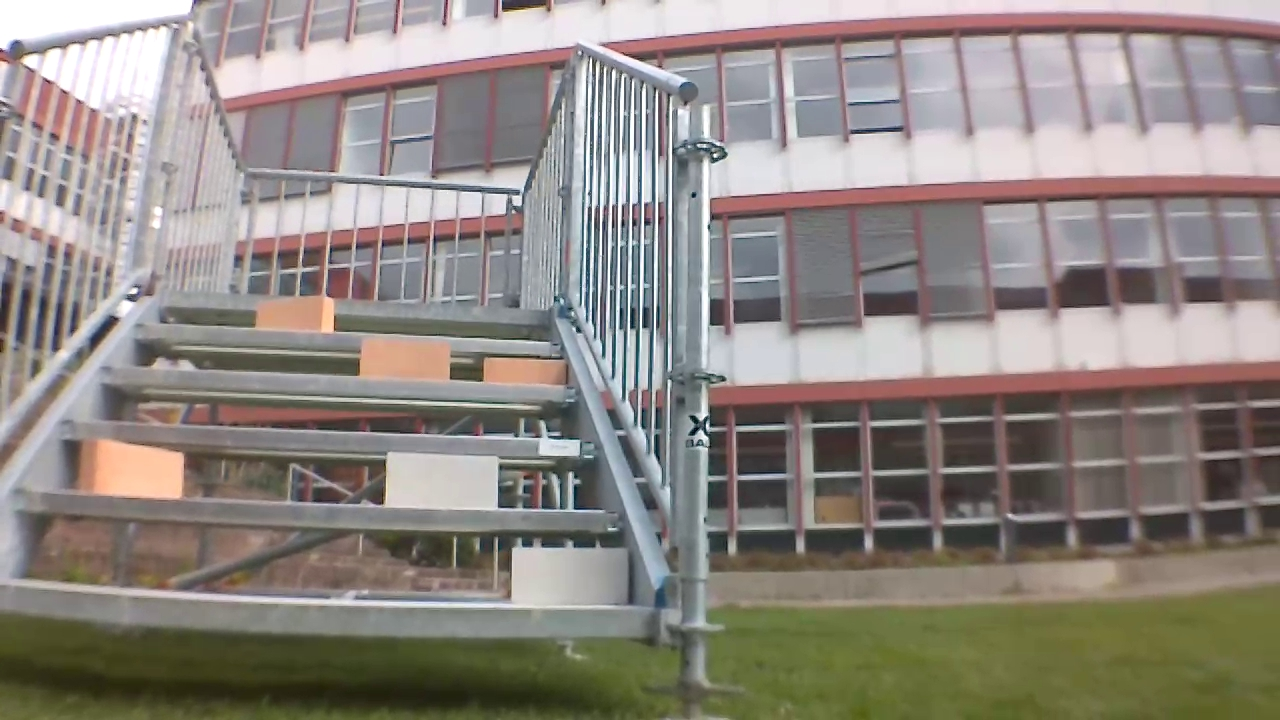brick: (513, 548, 630, 605), (80, 437, 182, 497), (385, 454, 497, 507), (362, 339, 449, 378), (257, 296, 332, 331), (484, 357, 563, 384)
edge: (4, 581, 658, 637), (14, 488, 625, 530), (61, 421, 599, 458), (101, 366, 579, 401), (135, 322, 560, 354), (159, 288, 549, 322)
stairs: (7, 15, 727, 718)
steps: (11, 277, 667, 642)
